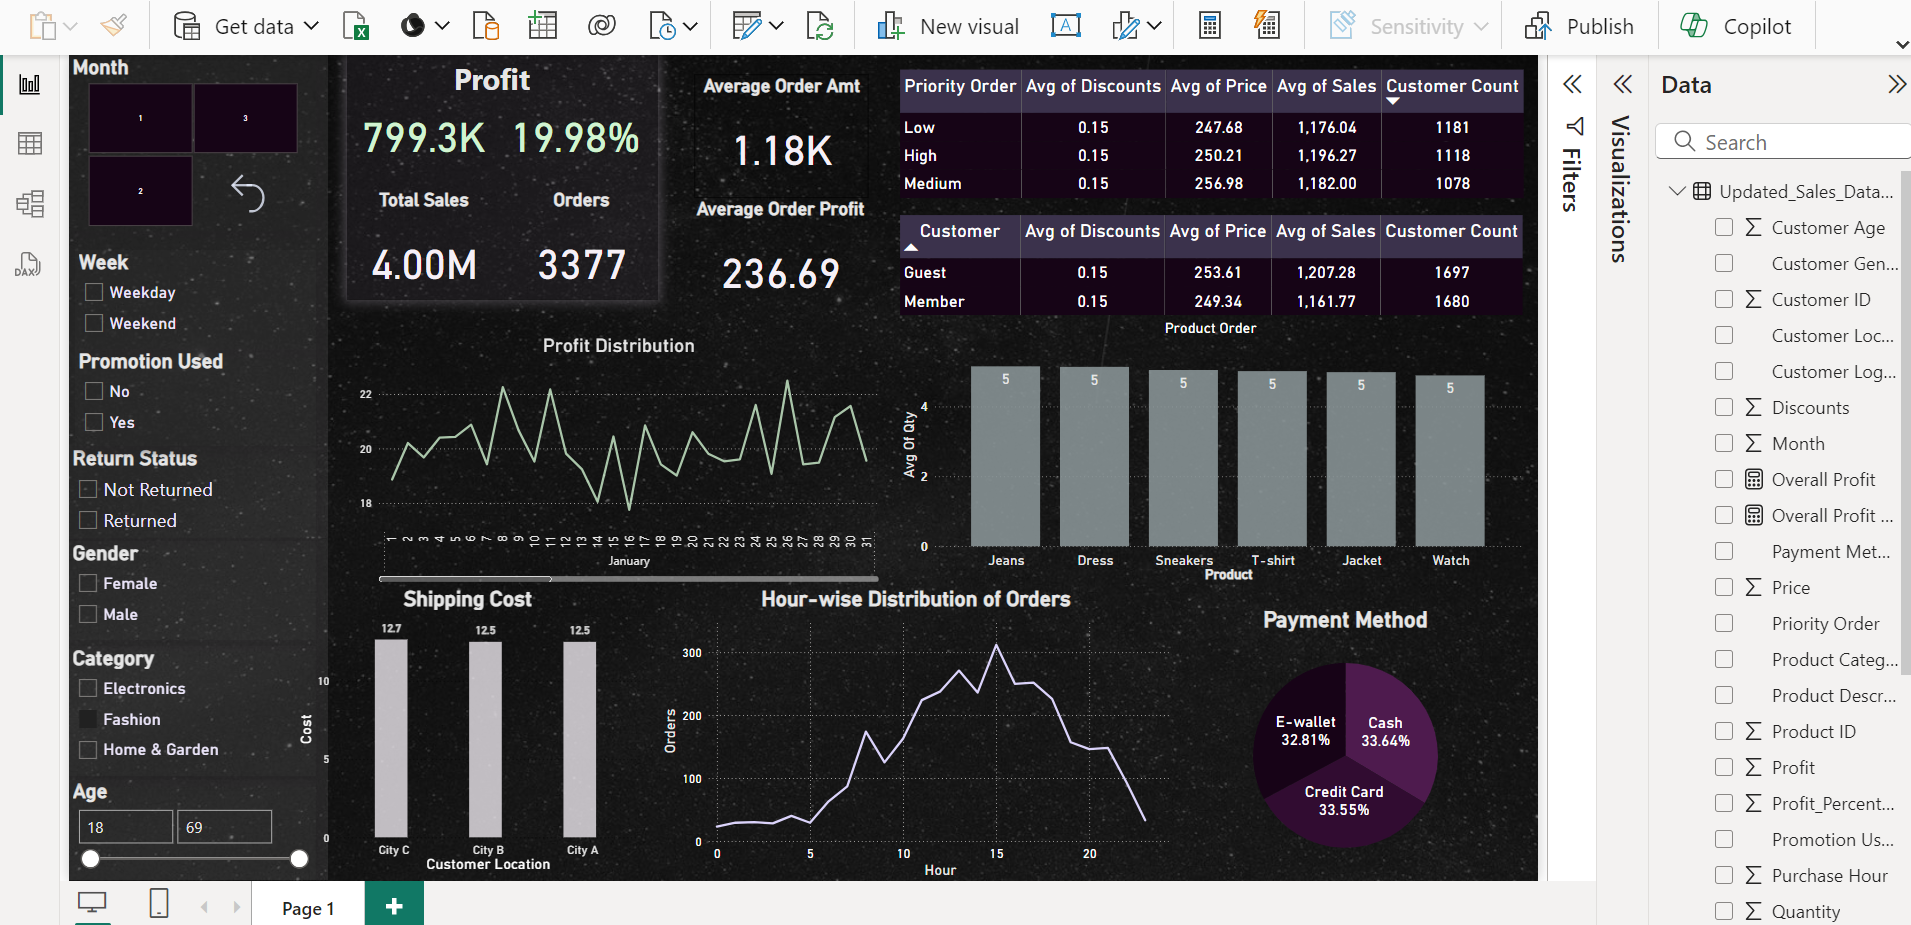

This screenshot's page, from the dashboard's own definition file:
{"tool":"powerbi","page":{"name":"Page 1","canvas":[1920,1080],"ordinal":0},"visuals":[{"type":"shape","box":[362.8,0,407.4,319.7],"z":0},{"type":"shape","box":[0,0,338.4,1078.9],"z":1000},{"type":"slicer","title":"Week","fields":{"Values":["Updated_Sales_Dataset.Weekend or Weekday"]},"box":[7.5,255,315,130],"z":2000},{"type":"slicer","title":"Age","fields":{"Values":["Updated_Sales_Dataset.Customer Age"]},"box":[0,947.5,322.5,132.5],"z":3000},{"type":"slicer","title":"Category","fields":{"Values":["Updated_Sales_Dataset.Product Category"]},"box":[0,772.5,322.5,170],"z":4000},{"type":"slicer","title":"Month","fields":{"Values":["Updated_Sales_Dataset.Month"]},"box":[0,0,322.5,230],"z":5000},{"type":"slicer","title":"Return Status","fields":{"Values":["Updated_Sales_Dataset.Return Status"]},"box":[0,512.5,322.5,120],"z":6000},{"type":"slicer","title":"Gender","fields":{"Values":["Updated_Sales_Dataset.Customer Gender"]},"box":[0,635,322.5,130],"z":7000},{"type":"slicer","title":"Promotion Used","fields":{"Values":["Updated_Sales_Dataset.Promotion Used"]},"box":[7.5,385,315,127.5],"z":8000},{"type":"card","title":"Total Sales","fields":{"Values":["Sum(Updated_Sales_Dataset.Sales)"]},"box":[365.2,175.3,198.9,161.1],"z":9000},{"type":"pieChart","title":"Payment Method","fields":{"Category":["Updated_Sales_Dataset.Payment Method"],"Y":["CountNonNull(Updated_Sales_Dataset.Transaction ID)"]},"box":[1417.9,720,502.1,357.6],"z":10000},{"type":"clusteredColumnChart","title":"Shipping Cost","fields":{"Y":["Avg(Updated_Sales_Dataset.Shipping Cost)"],"Category":["Updated_Sales_Dataset.Customer Location"]},"box":[293,695,458.8,379.3],"z":11000},{"type":"lineChart","title":"Hour-wise Distribution of Orders","fields":{"Category":["Updated_Sales_Dataset.Purchase Hour"],"Y":["CountNonNull(Updated_Sales_Dataset.Transaction ID)"]},"box":[769.7,694,677.4,386.1],"z":12000},{"type":"actionButton","box":[193.1,149.9,84,63.6],"z":13000},{"type":"card","title":"Orders","fields":{"Values":["CountNonNull(Updated_Sales_Dataset.Transaction ID)"]},"box":[571.3,175.3,198.9,161.1],"z":14000},{"type":"card","title":"Average Order Profit","fields":{"Values":["Avg(Updated_Sales_Dataset.Profit)"]},"box":[806.2,186.2,248.7,161.1],"z":15000},{"type":"card","title":"Average Order Amt","fields":{"Values":["Avg(Updated_Sales_Dataset.Sales)"]},"box":[818,25.2,227.4,161.1],"z":16000},{"type":"card","title":"Total Profit","fields":{"Values":["Sum(Updated_Sales_Dataset.Profit)"]},"box":[364.4,18.9,196.6,161.1],"z":17000},{"type":"tableEx","fields":{"Values":["Updated_Sales_Dataset.Customer Log Type","Avg(Updated_Sales_Dataset.Discounts)","Avg(Updated_Sales_Dataset.Price)","Avg(Updated_Sales_Dataset.Sales)","CountNonNull(Updated_Sales_Dataset.Customer Log Type)"]},"box":[1080,203.7,833.7,156.3],"z":18000},{"type":"columnChart","title":"Product Order","fields":{"Category":["Updated_Sales_Dataset.Product Description"],"Y":["Avg(Updated_Sales_Dataset.Quantity)"]},"box":[1080,345.8,824.2,348.2],"z":19000},{"type":"tableEx","fields":{"Values":["Updated_Sales_Dataset.Priority Order","Avg(Updated_Sales_Dataset.Discounts)","Avg(Updated_Sales_Dataset.Price)","Avg(Updated_Sales_Dataset.Sales)","CountNonNull(Updated_Sales_Dataset.Priority Order)"]},"box":[1080,14.2,833.7,180],"z":20000},{"type":"card","title":"Total Profit","fields":{"Values":["Updated_Sales_Dataset.Overall Profit Percentage"]},"box":[563.4,18.9,196.6,161.1],"z":21000},{"type":"textbox","box":[497.8,0,135,63.9],"z":22000},{"type":"lineChart","title":"Profit Distribution","fields":{"Y":["Avg(Updated_Sales_Dataset.Profit_Percentage)"],"Category":["Updated_Sales_Dataset.Transaction Date.Variation.Date Hierarchy.Month","Updated_Sales_Dataset.Transaction Date.Variation.Date Hierarchy.Day"]},"box":[374.2,364.7,689.2,329.2],"z":23000}]}

Visuals, with their boxes on the page's 1920x1080 design canvas (x1, y1, x2, y2). These are canvas units, not pixel positions in the 1911x925 screenshot, which may show the page scaled, cropped or inside an application window:
shape: [x1=363, y1=0, x2=770, y2=320]
shape: [x1=0, y1=0, x2=338, y2=1079]
"Week" slicer: [x1=8, y1=255, x2=322, y2=385]
"Age" slicer: [x1=0, y1=948, x2=322, y2=1080]
"Category" slicer: [x1=0, y1=772, x2=322, y2=942]
"Month" slicer: [x1=0, y1=0, x2=322, y2=230]
"Return Status" slicer: [x1=0, y1=512, x2=322, y2=632]
"Gender" slicer: [x1=0, y1=635, x2=322, y2=765]
"Promotion Used" slicer: [x1=8, y1=385, x2=322, y2=512]
"Total Sales" card: [x1=365, y1=175, x2=564, y2=336]
"Payment Method" pieChart: [x1=1418, y1=720, x2=1920, y2=1078]
"Shipping Cost" clusteredColumnChart: [x1=293, y1=695, x2=752, y2=1074]
"Hour-wise Distribution of Orders" lineChart: [x1=770, y1=694, x2=1447, y2=1080]
actionButton: [x1=193, y1=150, x2=277, y2=214]
"Orders" card: [x1=571, y1=175, x2=770, y2=336]
"Average Order Profit" card: [x1=806, y1=186, x2=1055, y2=347]
"Average Order Amt" card: [x1=818, y1=25, x2=1045, y2=186]
"Total Profit" card: [x1=364, y1=19, x2=561, y2=180]
tableEx - Updated_Sales_Dataset.Customer Log Type x Avg(Updated_Sales_Dataset.Discounts): [x1=1080, y1=204, x2=1914, y2=360]
"Product Order" columnChart: [x1=1080, y1=346, x2=1904, y2=694]
tableEx - Updated_Sales_Dataset.Priority Order x Avg(Updated_Sales_Dataset.Discounts): [x1=1080, y1=14, x2=1914, y2=194]
"Total Profit" card: [x1=563, y1=19, x2=760, y2=180]
textbox: [x1=498, y1=0, x2=633, y2=64]
"Profit Distribution" lineChart: [x1=374, y1=365, x2=1063, y2=694]
